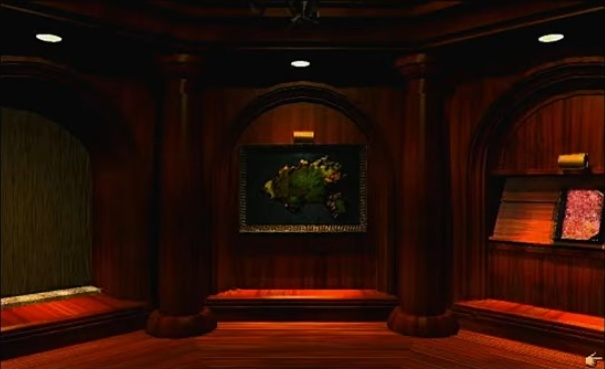Pointer: (584, 348, 604, 369)
